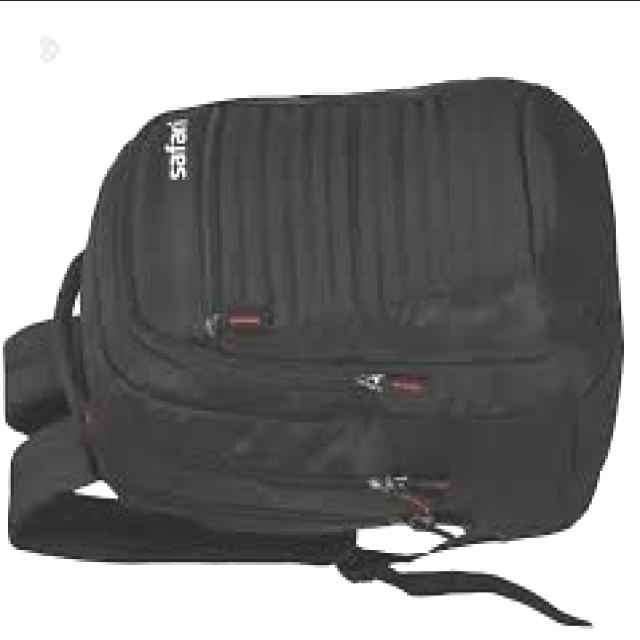backpack: (1, 77, 625, 632)
